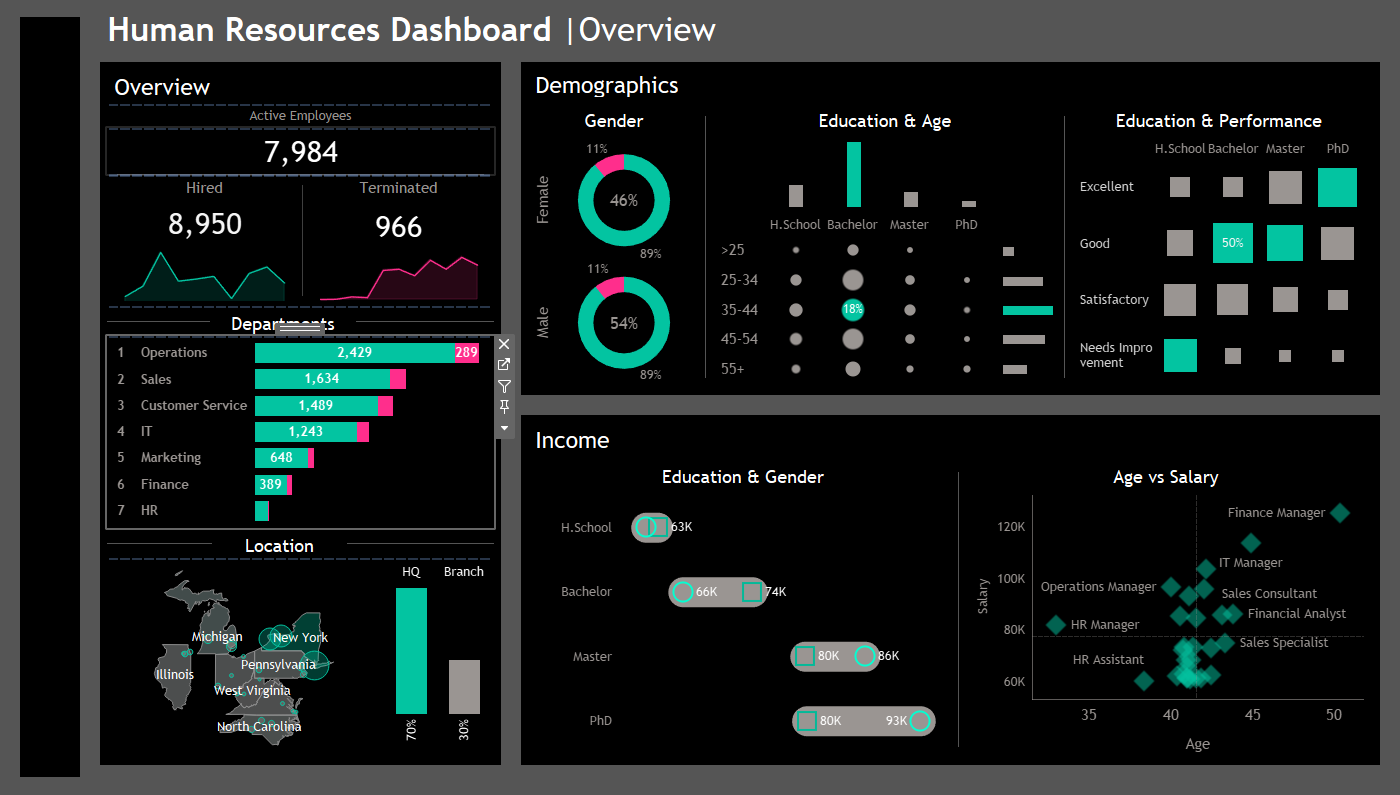

The page's visual inventory and layout, read from the dashboard file:
{"tool":"tableau","page":{"name":"HR Summary","canvas":[1400,800],"ordinal":0},"visuals":[{"type":"text","box":[100,0,708,65]},{"type":"blank","box":[808,0,572,65]},{"type":"blank","box":[20,20,60,405]},{"type":"text","box":[107,72,387,35]},{"type":"text","box":[528,72,845,32]},{"type":"text","box":[107,107,387,24]},{"type":"text","box":[528,109,172,29]},{"type":"blank","box":[705,109,1,282]},{"type":"text","box":[711,109,348,29]},{"type":"blank","box":[1064,109,1,282]},{"type":"text","box":[1070,109,298,29]},{"type":"worksheet","title":"BAN Active","mark":"Text","box":[107,131,387,46]},{"type":"worksheet","title":"Gender","mark":"Pie","rows":["Gender"],"cols":["Calculation_673569631922278401","Calculation_673569631922278401"],"box":[528,138,172,253]},{"type":"worksheet","title":"Education Level","mark":"Bar","rows":["Calculation_1045116601081323520"],"cols":["Education Level"],"box":[711,138,348,76]},{"type":"worksheet","title":"Education vs Performance","mark":"Square","rows":["Performance Rating"],"cols":["Education Level"],"box":[1070,138,298,253]},{"type":"blank","box":[107,177,387,1]},{"type":"text","box":[112,178,185,26]},{"type":"blank","box":[302,178,1,131]},{"type":"text","box":[308,178,181,26]},{"type":"worksheet","title":"BAN Hired","mark":"Text","box":[112,204,185,44]},{"type":"worksheet","title":"BAN Terminated","mark":"Text","box":[308,204,181,49]},{"type":"worksheet","title":"Age vs Education","mark":"Circle","rows":["Calculation_673569631926419460"],"cols":["Education Level"],"box":[711,214,288,177]},{"type":"worksheet","title":"Age Groups","mark":"Bar","rows":["Calculation_673569631926419460"],"cols":["Calculation_1045116601081323520"],"box":[999,214,60,177]},{"type":"worksheet","title":"Hired By Year ","mark":"Line","rows":["Calculation_1045116601081323520","Calculation_1045116601081323520"],"cols":["Hiredate"],"box":[112,248,185,61]},{"type":"worksheet","title":"Terminated By Year","mark":"Line","rows":["Calculation_1045116601081573377","Calculation_1045116601081573377"],"cols":["Termdate"],"box":[308,253,181,56]},{"type":"blank","box":[107,309,103,30]},{"type":"text","box":[210,309,146,30]},{"type":"blank","box":[356,309,138,30]},{"type":"worksheet","title":"Departments","mark":"Bar","rows":["Calculation_1045116601087311876","Department"],"cols":["Calculation_1045116601081323520"],"box":[107,339,387,192]},{"type":"blank","box":[20,425,60,355]},{"type":"text","box":[528,425,845,35]},{"type":"text","box":[533,465,420,29]},{"type":"blank","box":[958,465,1,295]},{"type":"text","box":[964,465,404,29]},{"type":"worksheet","title":"Gender vs Eduction Level","mark":"Square","rows":["Education Level"],"cols":["Salary","Salary"],"box":[533,494,420,266]},{"type":"worksheet","title":"Age vs Salary","mark":"Shape","rows":["Salary"],"cols":["Calculation_673569631924150274"],"box":[964,494,404,266]},{"type":"blank","box":[107,531,105,30]},{"type":"text","box":[212,531,135,30]},{"type":"blank","box":[347,531,147,30]},{"type":"worksheet","title":"Maps States","mark":"Automatic","box":[107,561,274,200]},{"type":"worksheet","title":"Locations","mark":"Bar","rows":["Calculation_1045116601081323520"],"cols":["Calculation_1045116601088053253","Calculation1"],"box":[381,561,113,200]}]}

Visuals, with their boxes in screenshot pixels (x1, y1, x2, y2), scaled from the page's 1400x800 canvas onto the 1400x795 screenshot:
text: box=[100, 0, 808, 65]
blank: box=[808, 0, 1380, 65]
blank: box=[20, 20, 80, 422]
text: box=[107, 72, 494, 106]
text: box=[528, 72, 1373, 103]
text: box=[107, 106, 494, 130]
text: box=[528, 108, 700, 137]
blank: box=[705, 108, 706, 389]
text: box=[711, 108, 1059, 137]
blank: box=[1064, 108, 1065, 389]
text: box=[1070, 108, 1368, 137]
"BAN Active" worksheet (Text marks): box=[107, 130, 494, 176]
"Gender" worksheet (Pie marks): box=[528, 137, 700, 389]
"Education Level" worksheet (Bar marks): box=[711, 137, 1059, 213]
"Education vs Performance" worksheet (Square marks): box=[1070, 137, 1368, 389]
blank: box=[107, 176, 494, 177]
text: box=[112, 177, 297, 203]
blank: box=[302, 177, 303, 307]
text: box=[308, 177, 489, 203]
"BAN Hired" worksheet (Text marks): box=[112, 203, 297, 246]
"BAN Terminated" worksheet (Text marks): box=[308, 203, 489, 251]
"Age vs Education" worksheet (Circle marks): box=[711, 213, 999, 389]
"Age Groups" worksheet (Bar marks): box=[999, 213, 1059, 389]
"Hired By Year " worksheet (Line marks): box=[112, 246, 297, 307]
"Terminated By Year" worksheet (Line marks): box=[308, 251, 489, 307]
blank: box=[107, 307, 210, 337]
text: box=[210, 307, 356, 337]
blank: box=[356, 307, 494, 337]
"Departments" worksheet (Bar marks): box=[107, 337, 494, 528]
blank: box=[20, 422, 80, 775]
text: box=[528, 422, 1373, 457]
text: box=[533, 462, 953, 491]
blank: box=[958, 462, 959, 755]
text: box=[964, 462, 1368, 491]
"Gender vs Eduction Level" worksheet (Square marks): box=[533, 491, 953, 755]
"Age vs Salary" worksheet (Shape marks): box=[964, 491, 1368, 755]
blank: box=[107, 528, 212, 557]
text: box=[212, 528, 347, 557]
blank: box=[347, 528, 494, 557]
"Maps States" worksheet: box=[107, 557, 381, 756]
"Locations" worksheet (Bar marks): box=[381, 557, 494, 756]
